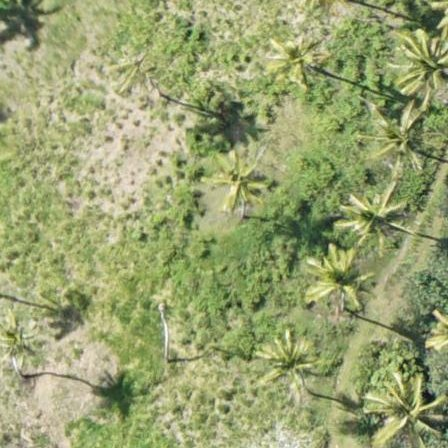palm_tree: (365, 373, 441, 442), (334, 185, 402, 254), (256, 328, 321, 393), (304, 245, 368, 307), (366, 104, 431, 165), (389, 31, 448, 89), (266, 37, 323, 91), (209, 151, 264, 205), (107, 49, 158, 92)
